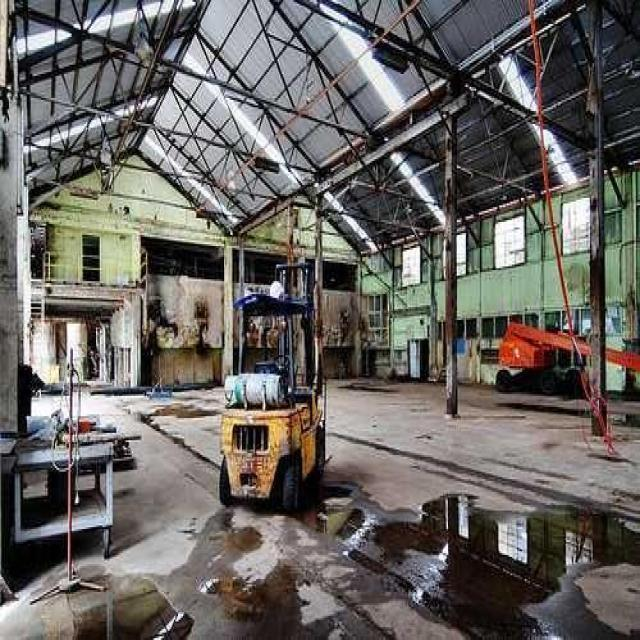forklift: (219, 268, 329, 514)
